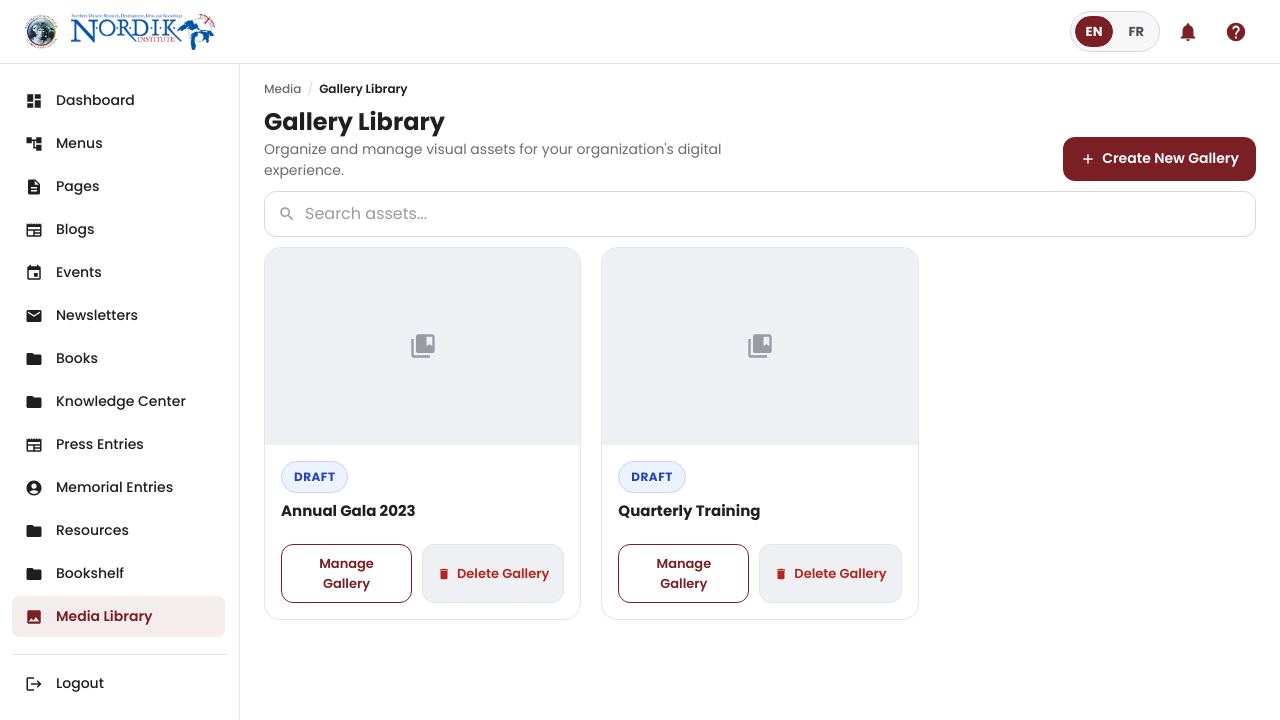
MediaLibraryPage › filters galleries by search term
Type "training" into the search field. click: {"x": 760, "y": 214}
box: [264,191,1256,237]
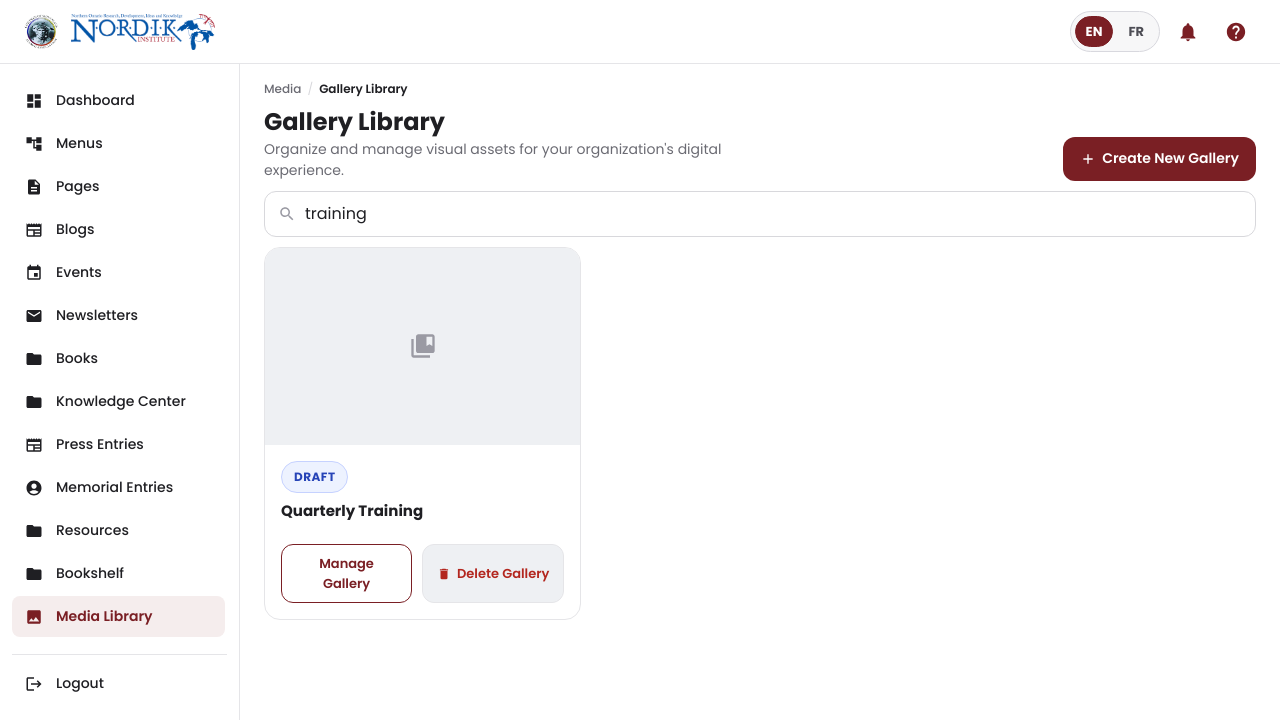
Expected: the heading "Quarterly Training" is shown, [281,500,423,521]
Expected: the heading "Annual Gala 2023" is gone
